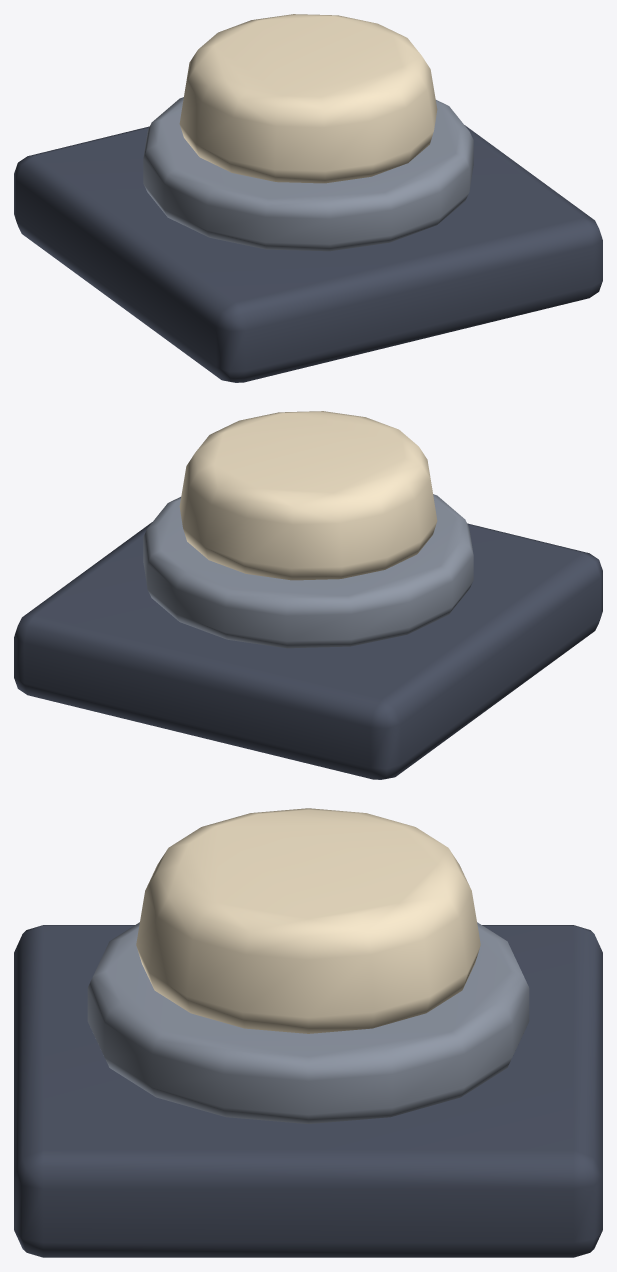
Rendered from Ctrl_Button.glb.
3 renders of one model, top to bottom at view 1: azimuth 30°, elevation 25°; view 2: azimuth 150°, elevation 25°; view 3: azimuth 270°, elevation 25°, orthographic. The views are drawn at different scales.
Visible parts, largest first — view 1: Ctrl_Button.Base, Ctrl_Button.Move_Button, Ctrl_Button.Collar; view 2: Ctrl_Button.Base, Ctrl_Button.Move_Button, Ctrl_Button.Collar; view 3: Ctrl_Button.Base, Ctrl_Button.Move_Button, Ctrl_Button.Collar.
Boxes of the visible parts, x1,y1,x2,y2 form: Ctrl_Button.Base: (14, 125, 602, 382); Ctrl_Button.Move_Button: (179, 14, 437, 183); Ctrl_Button.Collar: (143, 97, 473, 251); Ctrl_Button.Base: (14, 522, 602, 779); Ctrl_Button.Move_Button: (179, 411, 437, 580); Ctrl_Button.Collar: (143, 494, 473, 648); Ctrl_Button.Base: (14, 925, 602, 1257); Ctrl_Button.Move_Button: (136, 808, 480, 1033); Ctrl_Button.Collar: (87, 922, 529, 1123).
Size of the model in its own units: 0.2 by 0.105 by 0.2.
Materials: 1 (1 with a texture image).
